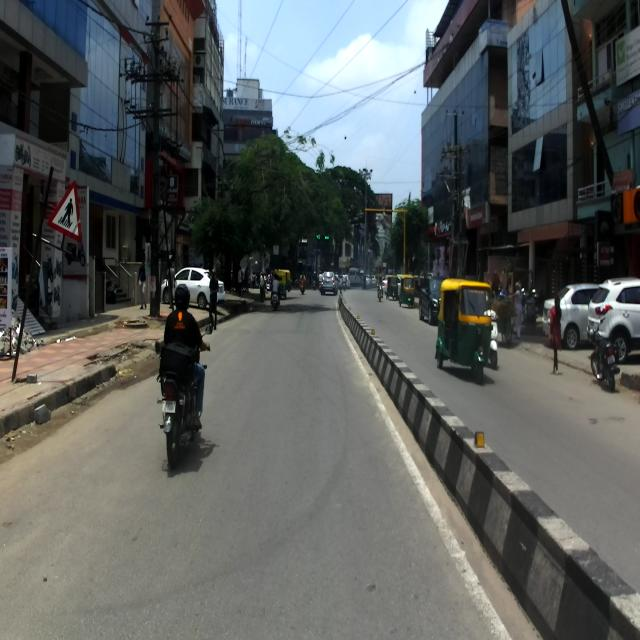auto ahead at: (434, 271, 492, 381)
motorcycle ahead at: (154, 377, 210, 473)
sign board ahead at: (49, 182, 87, 248)
